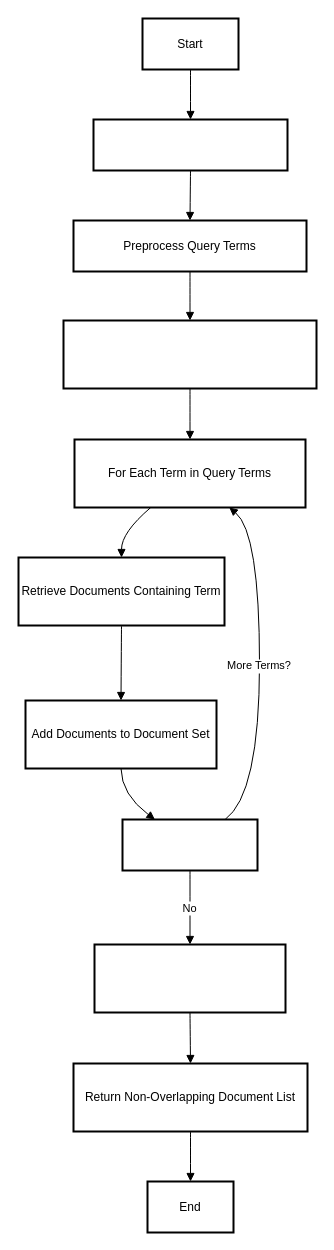
The diagram is 334 pixels wide and 1250 high, and some of its shapes have lost their labels. Each missing label, with the box of its shape:
Initialize Empty Document Set: (62, 319, 317, 389)
Input Query Terms: (92, 118, 288, 171)
Next Term: (121, 818, 258, 871)
Remove Duplicate Documents: (93, 943, 286, 1013)
